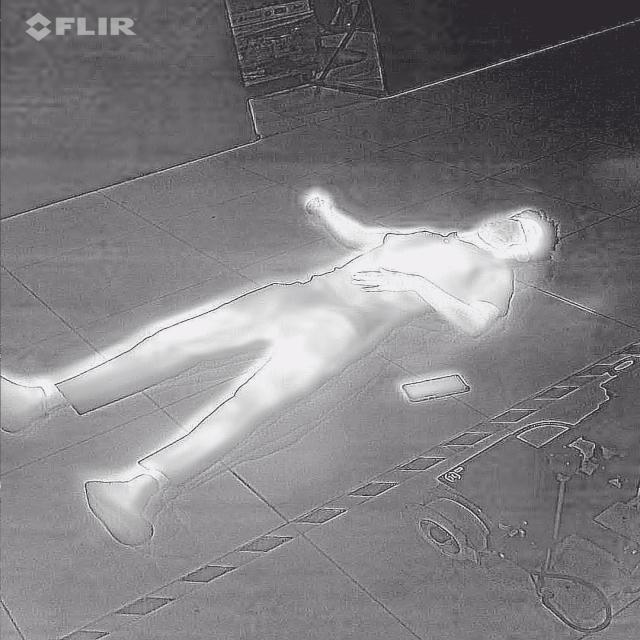Victim: (0, 182, 564, 546)
